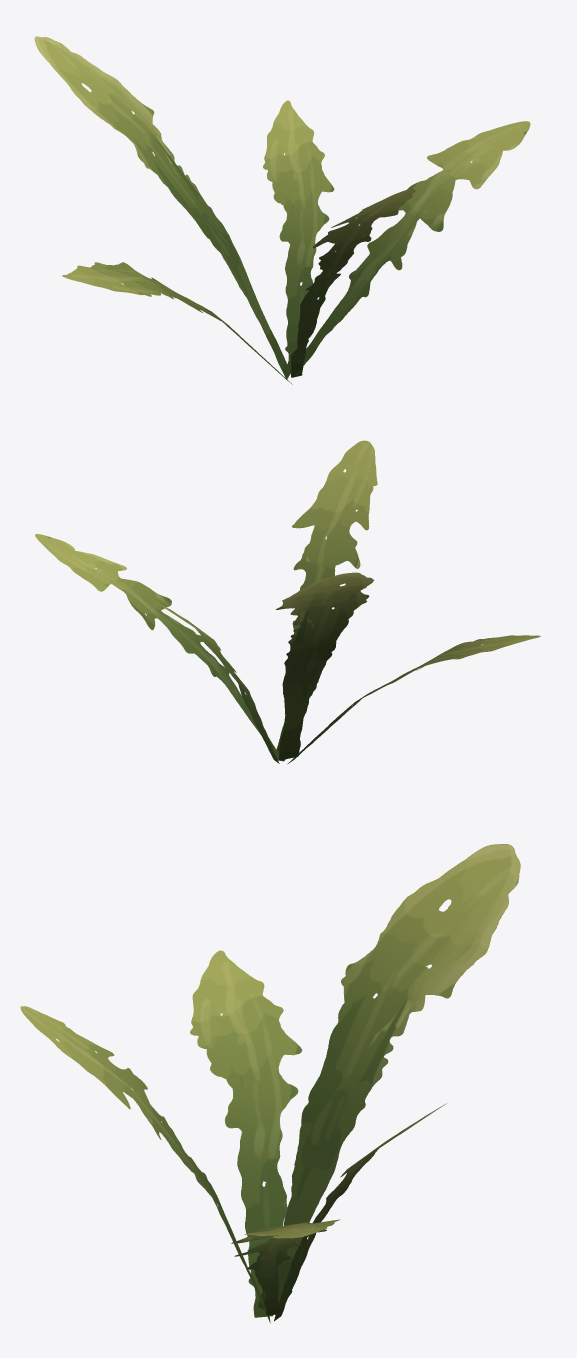
Rendered from DandelionLeafs1_Mesh.fbx.
3 views of the same model, one above another, from view 1: azimuth 30°, elevation 25°; view 2: azimuth 150°, elevation 25°; view 3: azimuth 270°, elevation 25° (orthographic). The views are drawn at different scales.
Visible parts, largest first — view 1: Plane.162; view 2: Plane.162; view 3: Plane.162.
Part boxes in pixels (x1,y1,x2,y2): Plane.162: [34, 36, 530, 384]; Plane.162: [35, 440, 540, 764]; Plane.162: [20, 844, 520, 1323].
Size of the model in its own units: 0.5616 by 0.4197 by 0.332.
